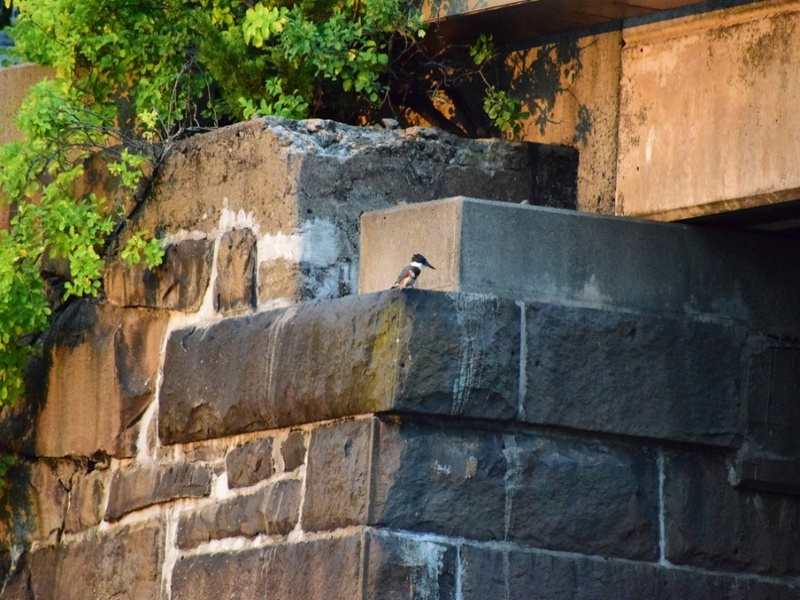kingfisher: (383, 251, 437, 293)
